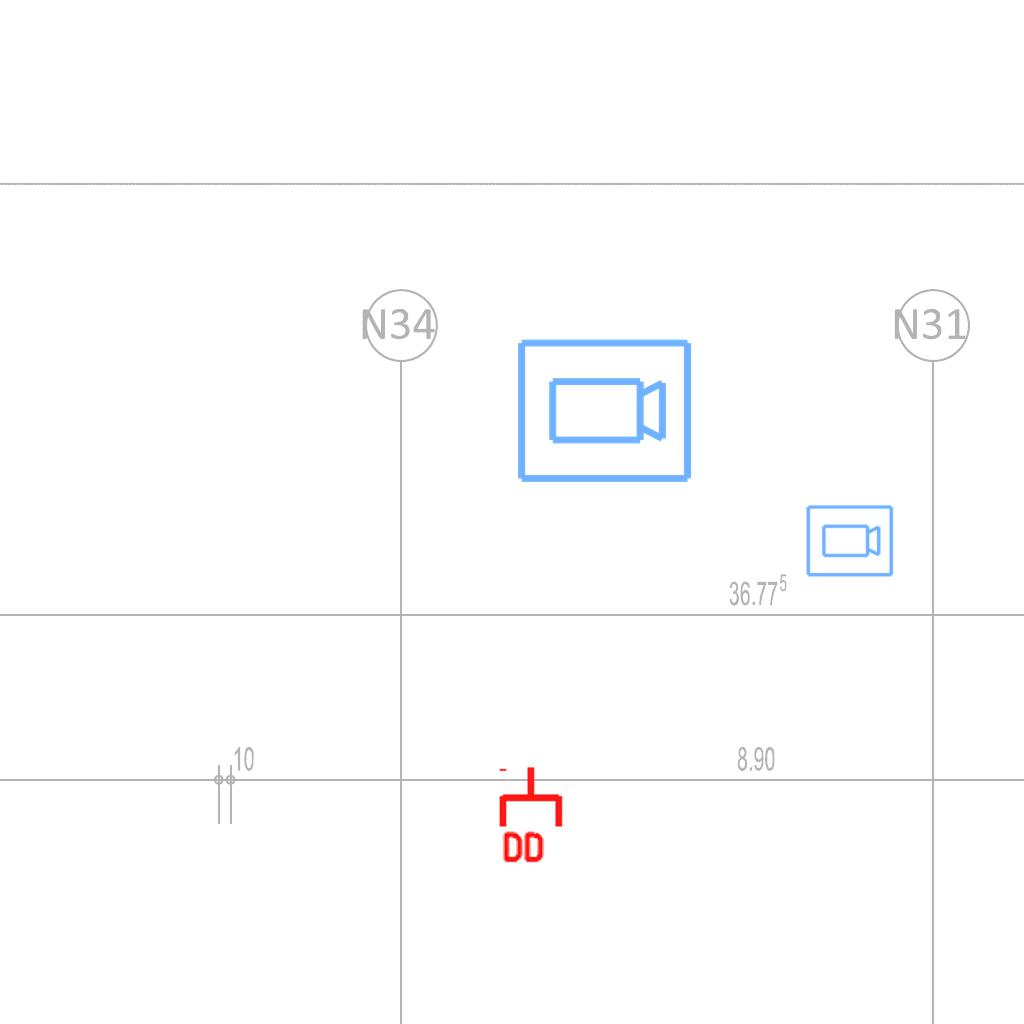Datenanschluss_zweifach: (498, 764, 567, 867)
KFO_Kamera_mit_Festobjektiv: (513, 335, 695, 489), (804, 503, 895, 580)
